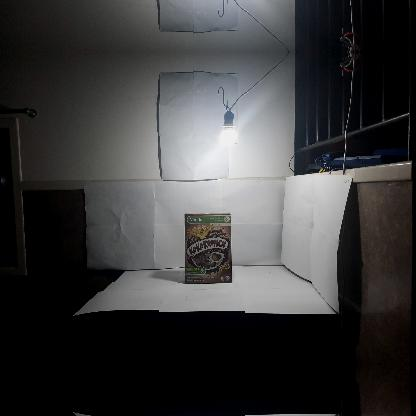Koko-Krunch: (184, 212, 232, 284)
